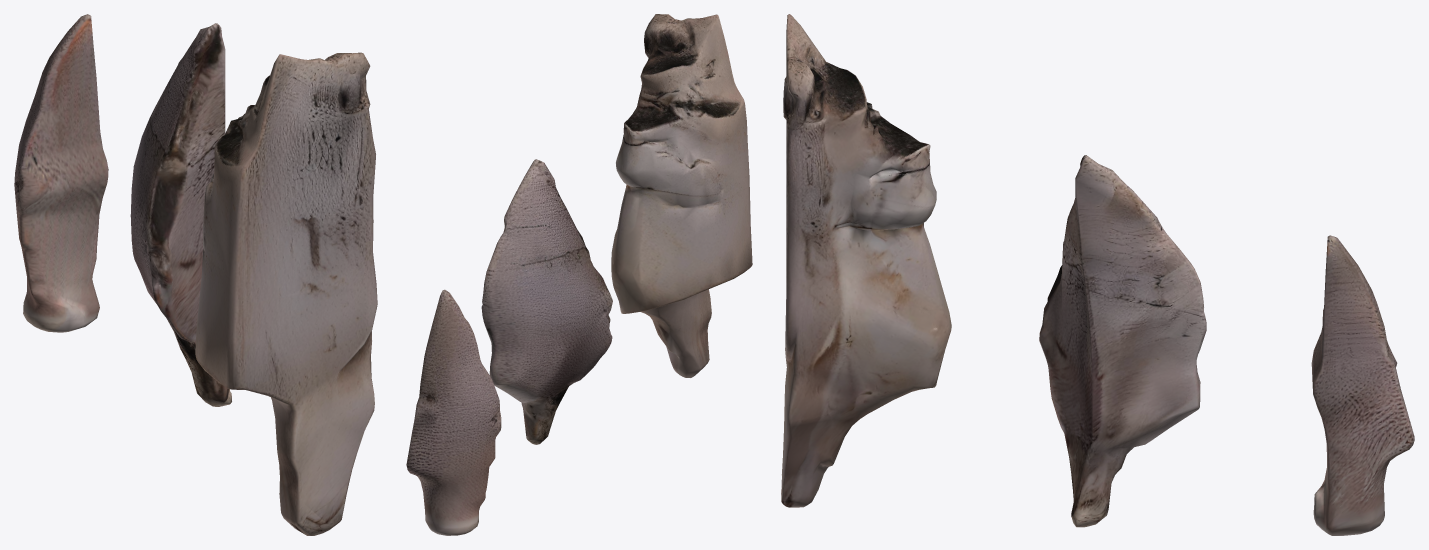
Rendered from Tanged Point.fbx.
3 renders of one model, left to right at view 1: azimuth 30°, elevation 25°; view 2: azimuth 150°, elevation 25°; view 3: azimuth 270°, elevation 25°, orthographic. The views are drawn at different scales.
Visible parts, largest first — view 1: Sumbechireugae(Baked); view 2: Sumbechireugae(Baked); view 3: Sumbechireugae(Baked).
Boxes of the visible parts, left/top/right/bottom form: Sumbechireugae(Baked): left=14, top=14, right=377, bottom=535; Sumbechireugae(Baked): left=406, top=14, right=752, bottom=535; Sumbechireugae(Baked): left=781, top=14, right=1414, bottom=535.
Bounding box in the file's own units: 1.72 × 5.04 × 6.
1 material, 1 textured.
